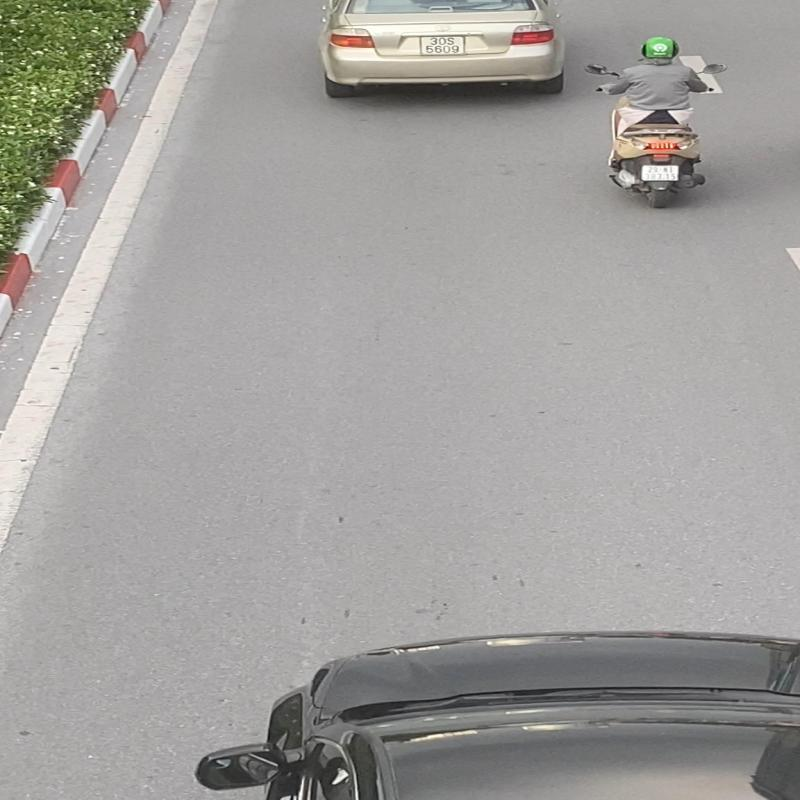helmet: (642, 36, 680, 62)
licenseplate: (642, 164, 680, 182)
motorcyclist: (598, 36, 719, 209)
